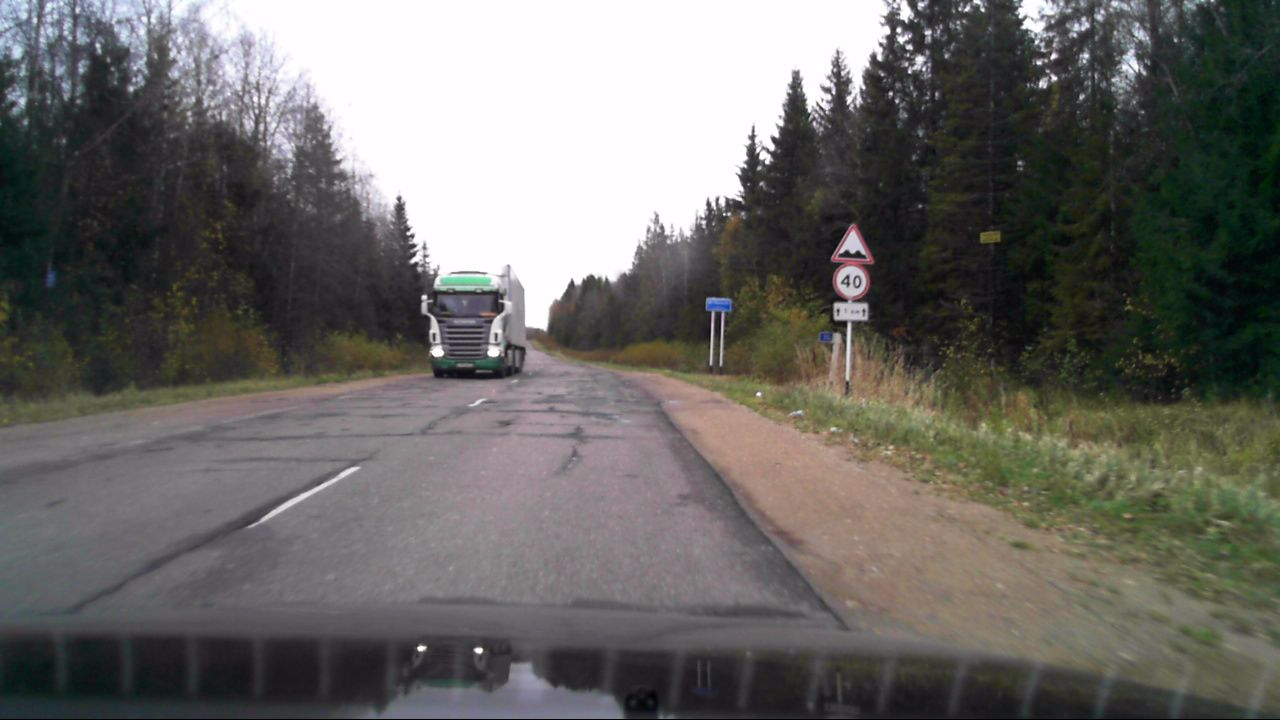speed_warning_40: (833, 263, 869, 300)
